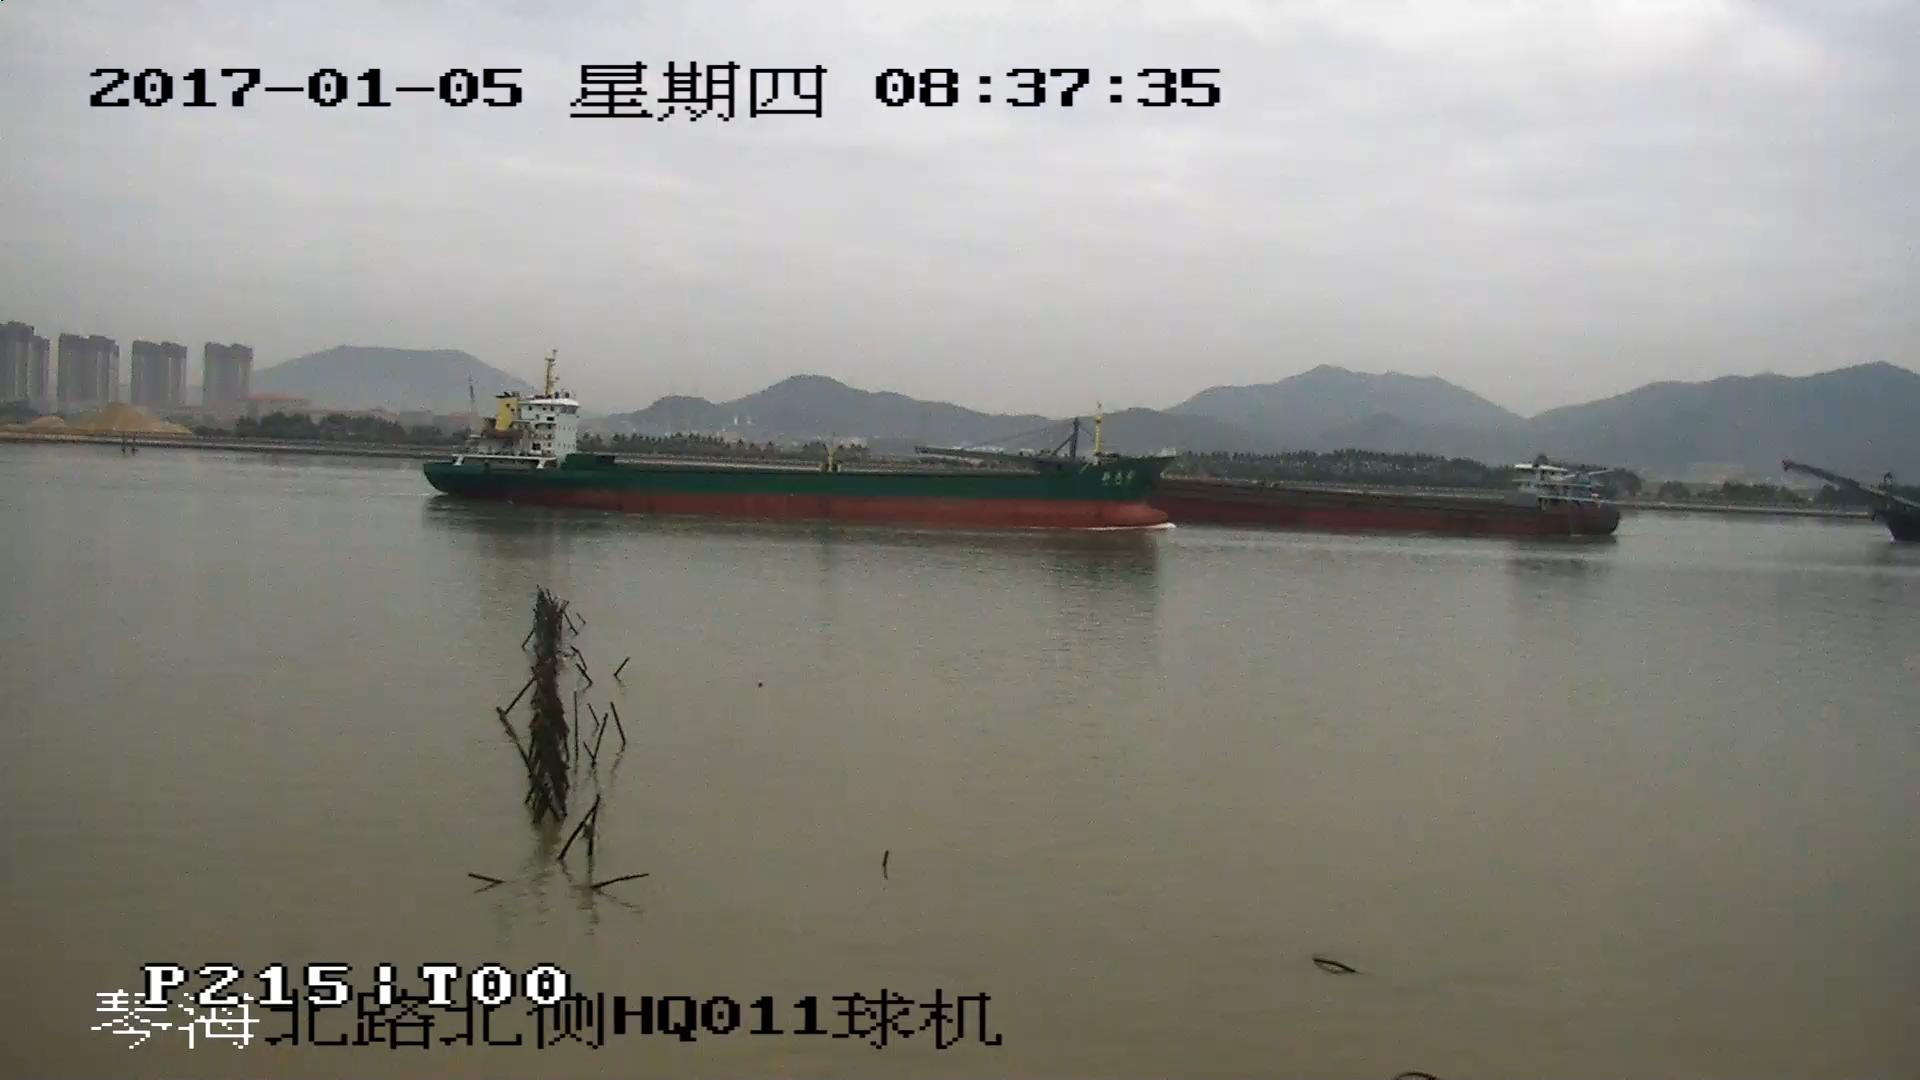bulk cargo carrier: (1182, 459, 1616, 535)
general cargo ship: (425, 353, 1172, 530)
